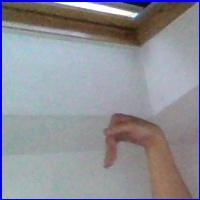del: (99, 107, 170, 174)
